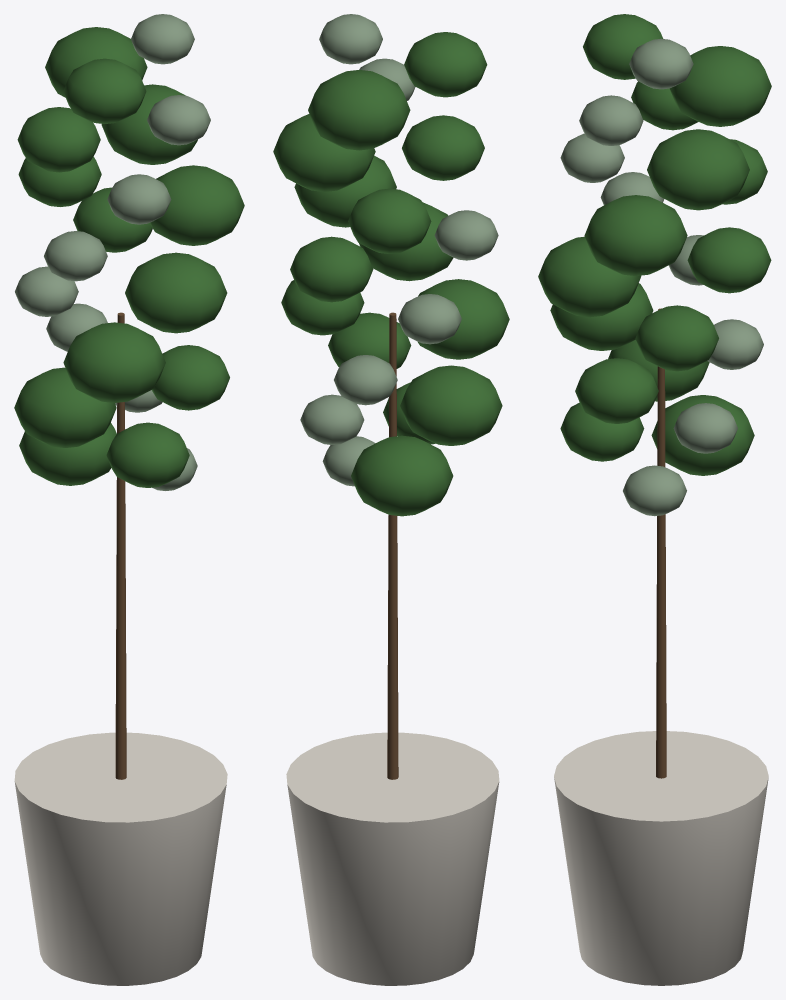
File: plante-1.glb
The picture shows the model from 3 angles, left to right: view 1: azimuth 30°, elevation 25°; view 2: azimuth 150°, elevation 25°; view 3: azimuth 270°, elevation 25°; orthographic projection.
Visible parts, largest first — view 1: produit; view 2: produit; view 3: produit.
Part boxes in pixels (x1,y1,x2,y2): produit: [14, 14, 244, 985]; produit: [273, 14, 509, 985]; produit: [538, 14, 771, 985].
Size of the model in its own units: 0.3334 by 1.43 by 0.3263.
